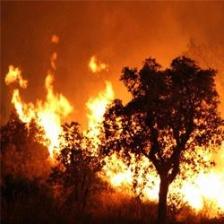fire: (2, 58, 224, 218)
